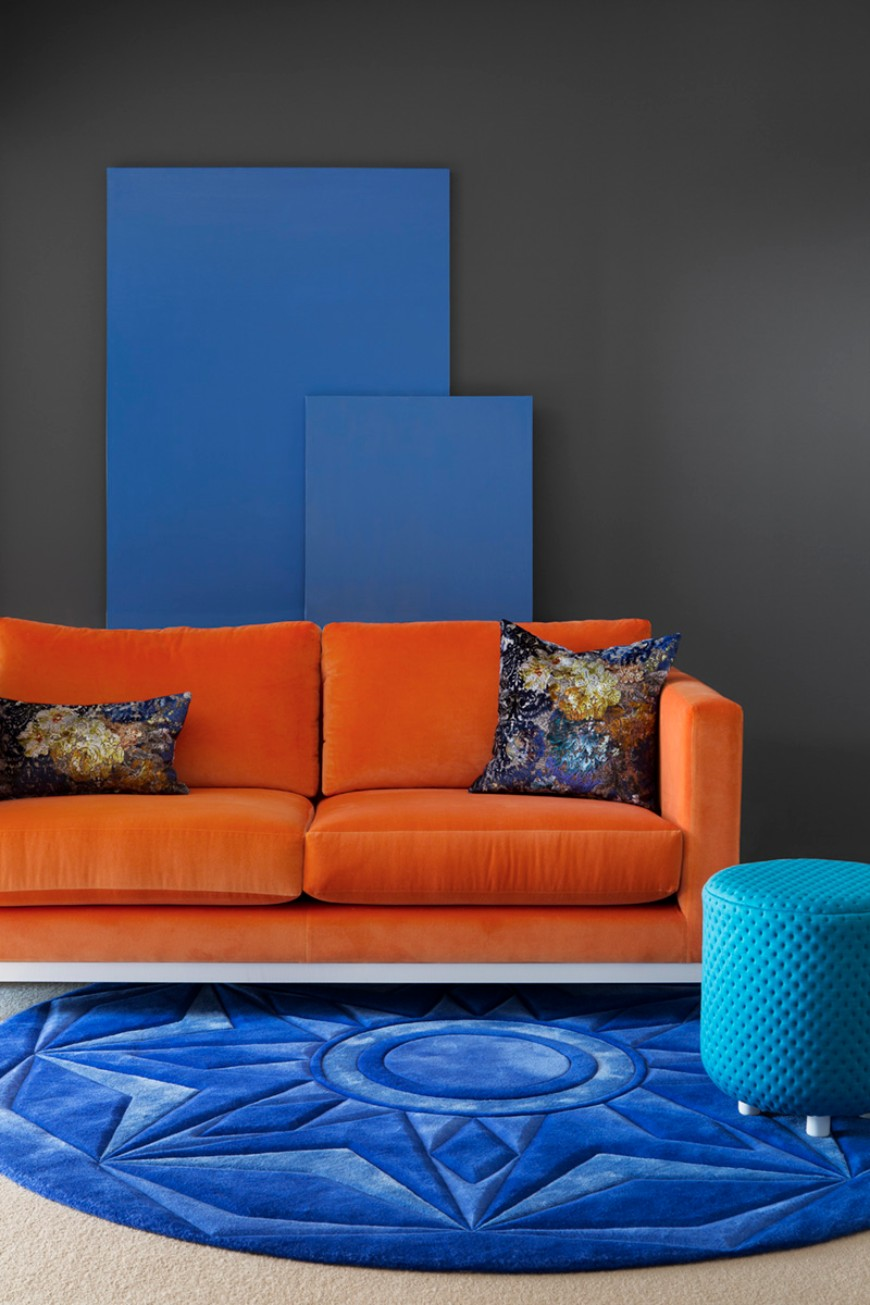biru: (706, 867, 870, 1112)
orange: (1, 619, 744, 946)
